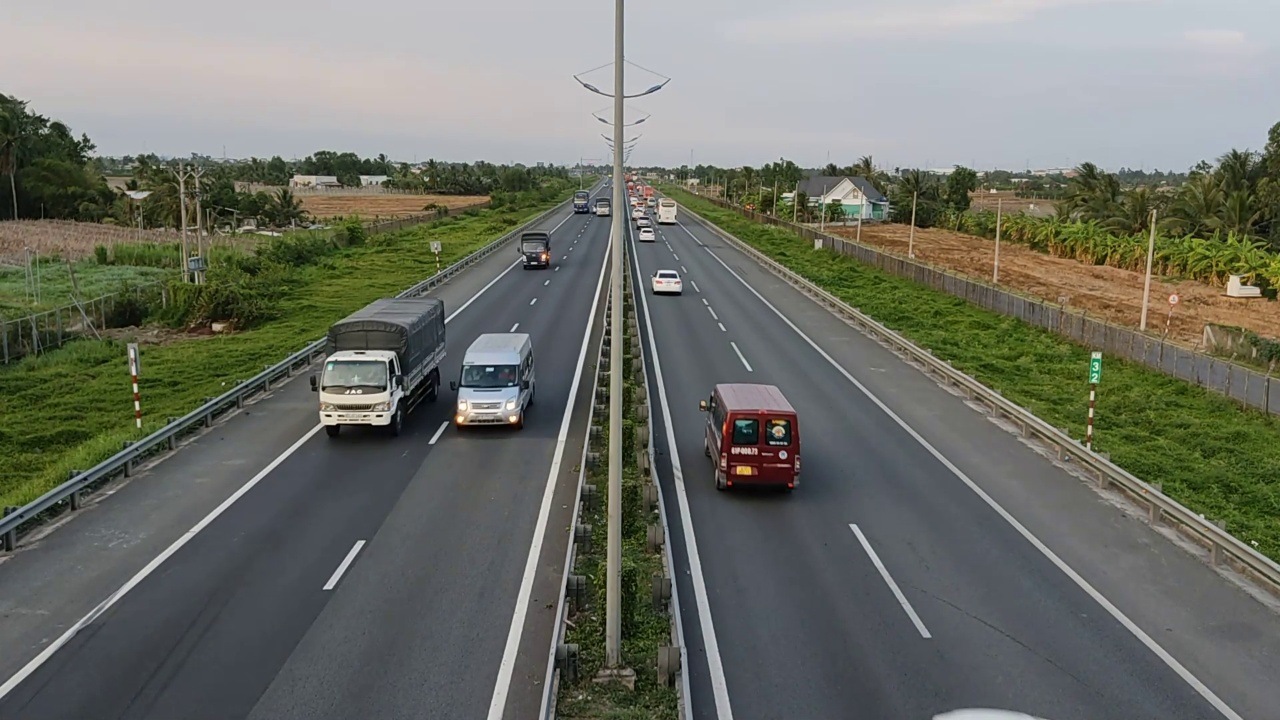car: (699, 381, 803, 491), (651, 268, 683, 295)
truck: (317, 295, 447, 439), (452, 332, 537, 429)
